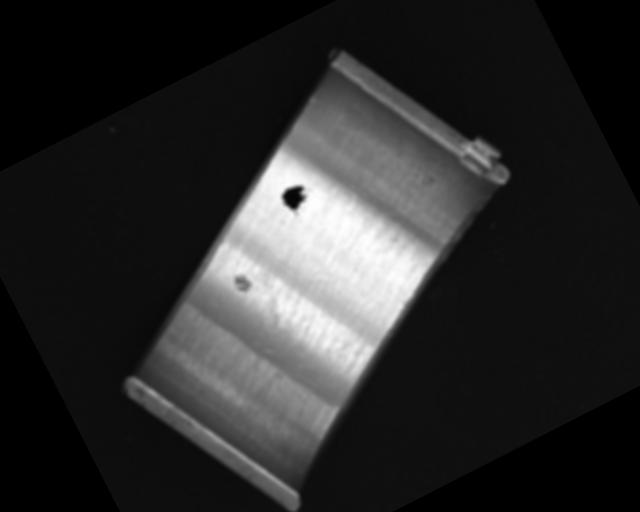blot: (277, 177, 321, 218)
bruise: (229, 268, 256, 297)
nick: (308, 91, 323, 109)
